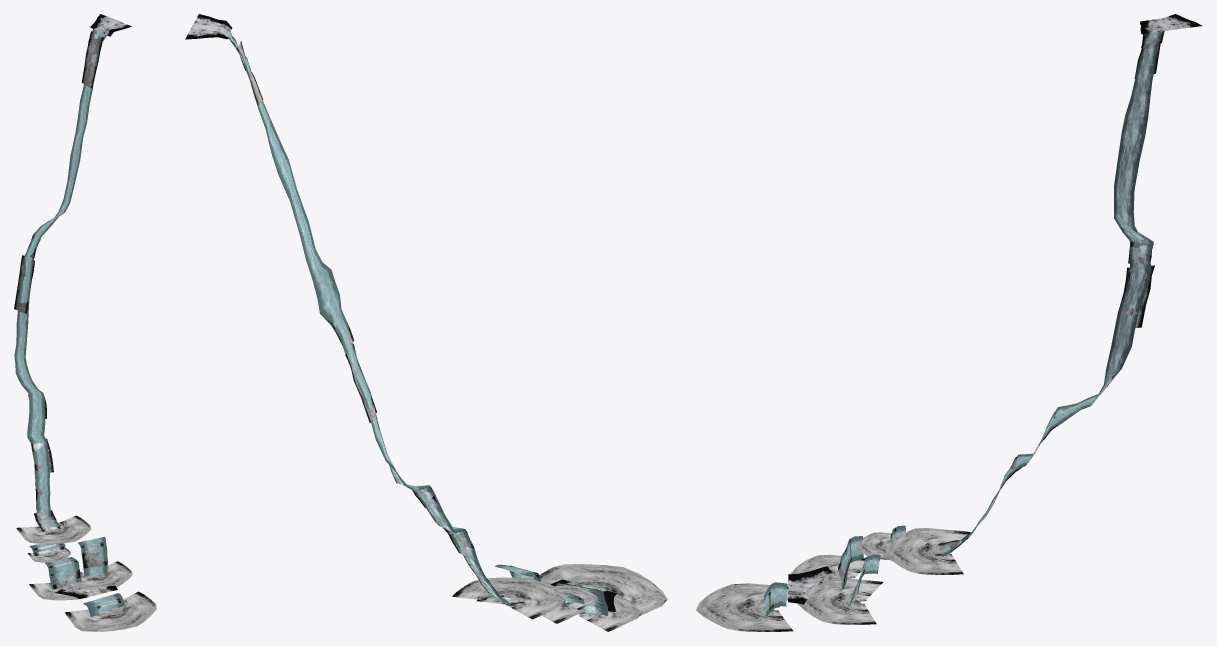
The model's file is wintergraspwaterfall-01.obj.
The picture shows the model from 3 angles, left to right: view 1: azimuth 30°, elevation 25°; view 2: azimuth 150°, elevation 25°; view 3: azimuth 270°, elevation 25°; orthographic projection. The views are drawn at different scales.
Parts seen in each view (by area): view 1: Geoset5, Geoset1, Geoset3, Geoset0, Geoset4, Geoset2; view 2: Geoset1, Geoset5, Geoset2, Geoset3, Geoset0; view 3: Geoset1, Geoset2, Geoset5, Geoset0, Geoset3.
Boxes of the visible parts, left/top/right/bottom form: Geoset5: left=14, top=29, right=124, bottom=616; Geoset1: left=16, top=515, right=156, bottom=631; Geoset3: left=14, top=31, right=120, bottom=608; Geoset0: left=55, top=14, right=131, bottom=598; Geoset4: left=81, top=38, right=101, bottom=88; Geoset2: left=14, top=29, right=103, bottom=611; Geoset1: left=452, top=564, right=667, bottom=631; Geoset5: left=225, top=28, right=621, bottom=614; Geoset2: left=228, top=38, right=622, bottom=615; Geoset3: left=230, top=36, right=602, bottom=605; Geoset0: left=185, top=14, right=616, bottom=611; Geoset1: left=696, top=528, right=970, bottom=631; Geoset2: left=766, top=34, right=1160, bottom=616; Geoset5: left=764, top=31, right=1161, bottom=616; Geoset0: left=788, top=14, right=1202, bottom=604; Geoset3: left=768, top=31, right=1164, bottom=610.
Size of the model in its own units: 179 by 395 by 264.
5 materials, 5 textured.
